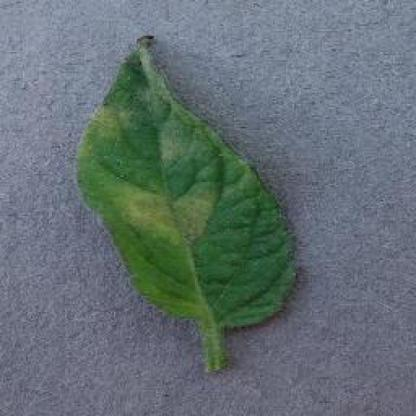Tomato_Leaf_Mold: (78, 35, 294, 323)
